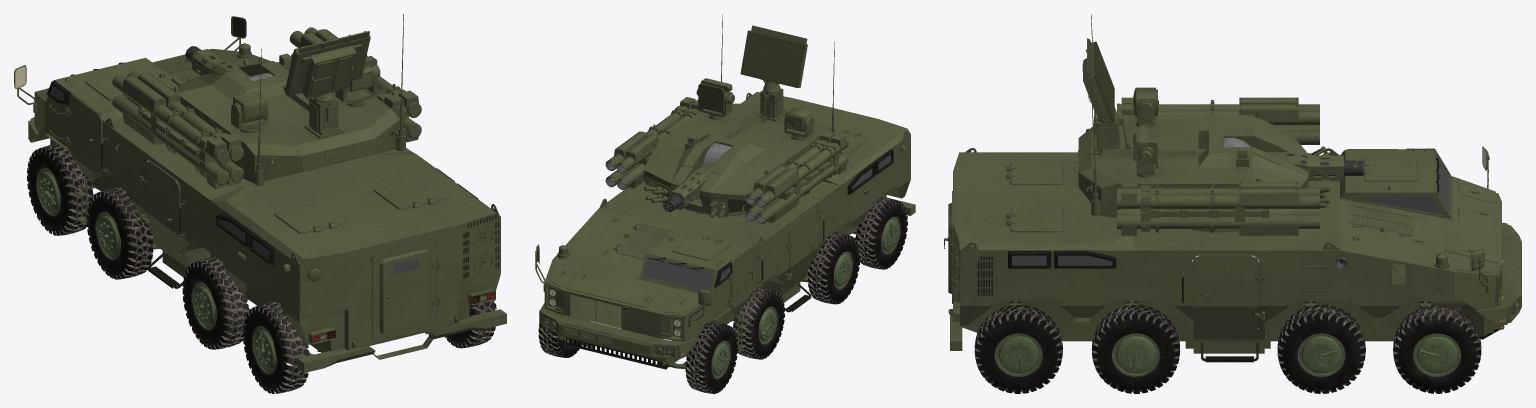
The picture shows the model from 3 angles, left to right: view 1: azimuth 30°, elevation 25°; view 2: azimuth 150°, elevation 25°; view 3: azimuth 270°, elevation 25°; orthographic projection. The views are drawn at different scales.
Visible parts, largest first — view 1: V_t625; view 2: V_t625; view 3: V_t625.
Boxes of the visible parts, bbox=[...] form: V_t625: bbox=[14, 14, 506, 393]; V_t625: bbox=[535, 14, 915, 393]; V_t625: bbox=[944, 14, 1521, 393].
Bounding box in the file's own units: 11.55 × 14.96 × 26.32.
Materials: 4 (4 with a texture image).
